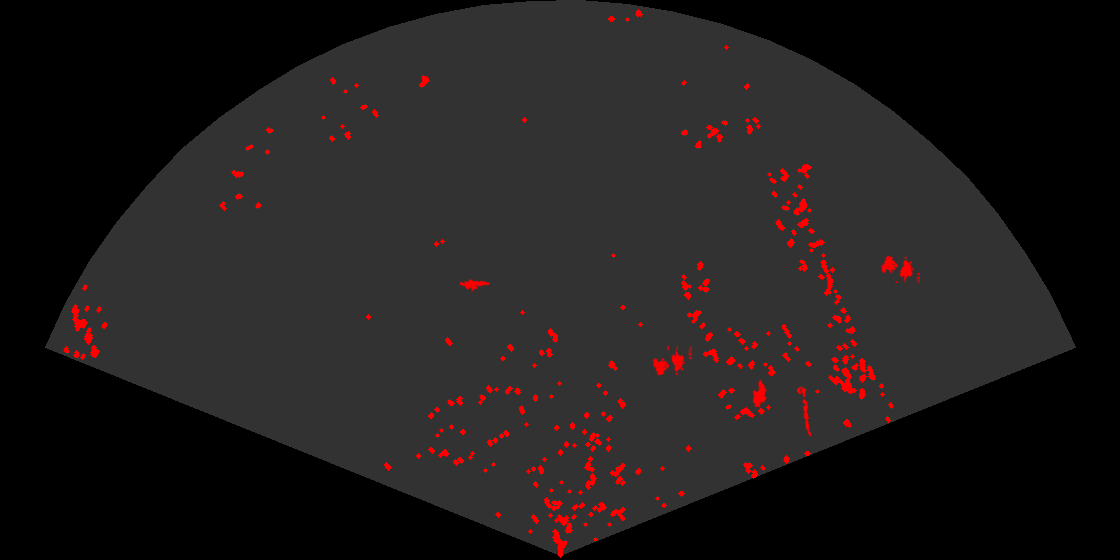AUV: (751, 378, 768, 409)
cage: (651, 346, 692, 377), (880, 254, 920, 283)
chain: (799, 386, 813, 437)
frogman: (460, 277, 490, 293)
